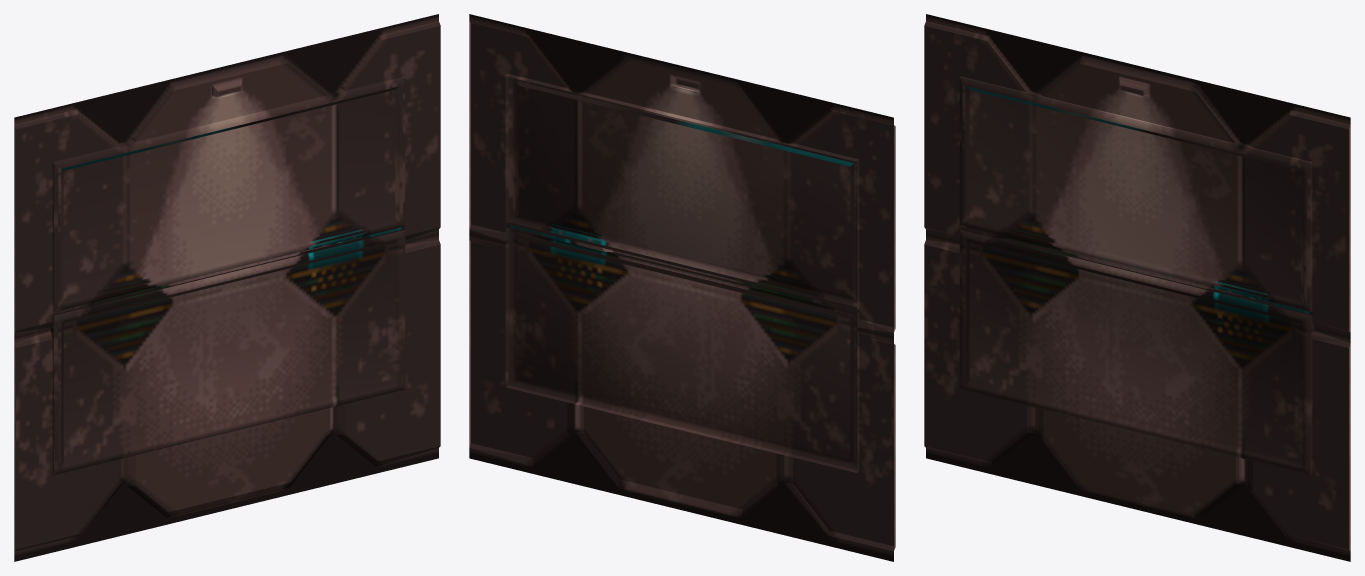
File: eng1_7d.fbx
3 renders of one model, left to right at view 1: azimuth 30°, elevation 25°; view 2: azimuth 150°, elevation 25°; view 3: azimuth 330°, elevation 25°, orthographic.
Visible parts, largest first — view 1: eng1_7d_mesh; view 2: eng1_7d_mesh; view 3: eng1_7d_mesh.
Part boxes in pixels (left/top/right/bottom): eng1_7d_mesh: left=14, top=14, right=440, bottom=561; eng1_7d_mesh: left=469, top=14, right=895, bottom=561; eng1_7d_mesh: left=924, top=14, right=1350, bottom=561.
Size of the model in its own units: 256 by 256 by 6.46.
